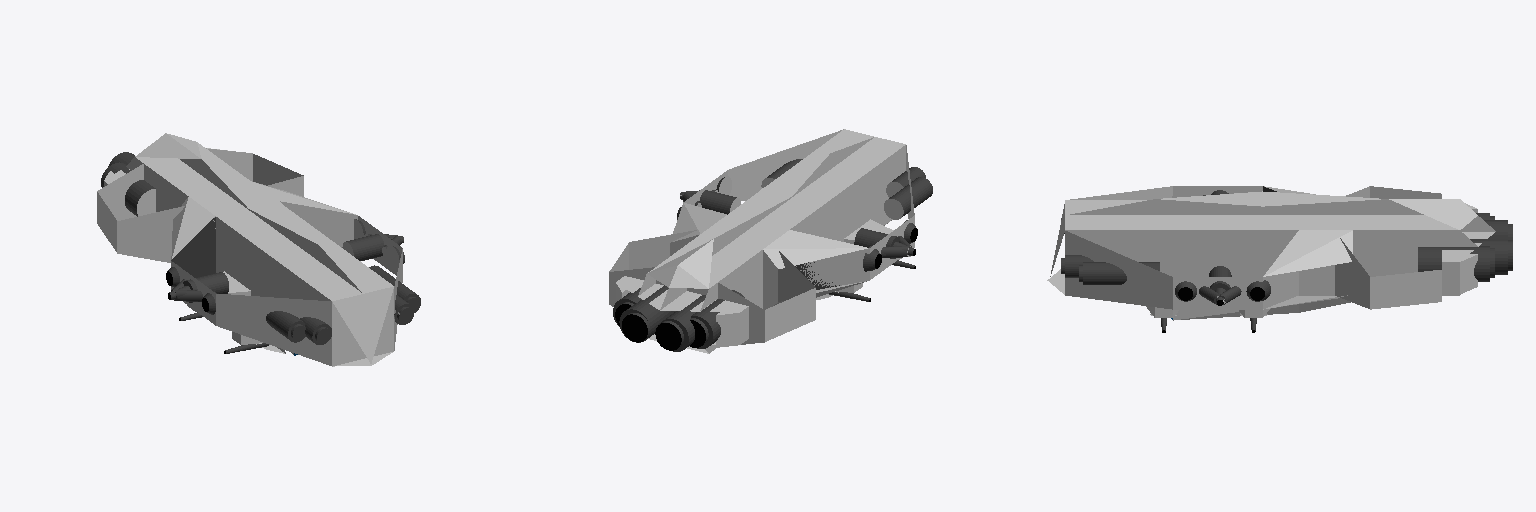
The model's file is ShipTwo.obj.
3 views of the same model, side by side, from view 1: azimuth 30°, elevation 25°; view 2: azimuth 150°, elevation 25°; view 3: azimuth 270°, elevation 25° (orthographic).
Parts seen in each view (by area): view 1: Cube.031; view 2: Cube.031; view 3: Cube.031, Cube.001_Cube.004.
Part boxes in pixels (bbox=[...]): Cube.031: bbox=[97, 133, 420, 366]; Cube.031: bbox=[609, 129, 932, 353]; Cube.031: bbox=[1047, 186, 1512, 332]; Cube.001_Cube.004: bbox=[1173, 277, 1262, 309].
Bounding box in the file's own units: 15 × 7 × 25.92.